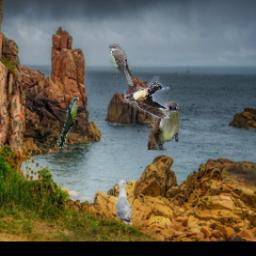Cuckoo: (148, 101, 181, 150), (58, 98, 79, 149), (110, 45, 134, 87)
Swallow: (125, 77, 171, 119)
